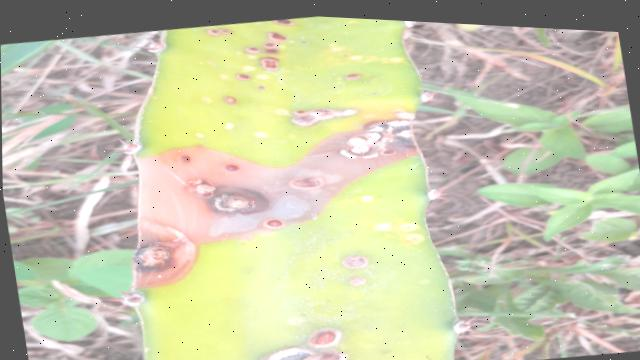stemcanker: (126, 18, 319, 111), (345, 188, 407, 235), (332, 248, 373, 296), (339, 65, 364, 88)
